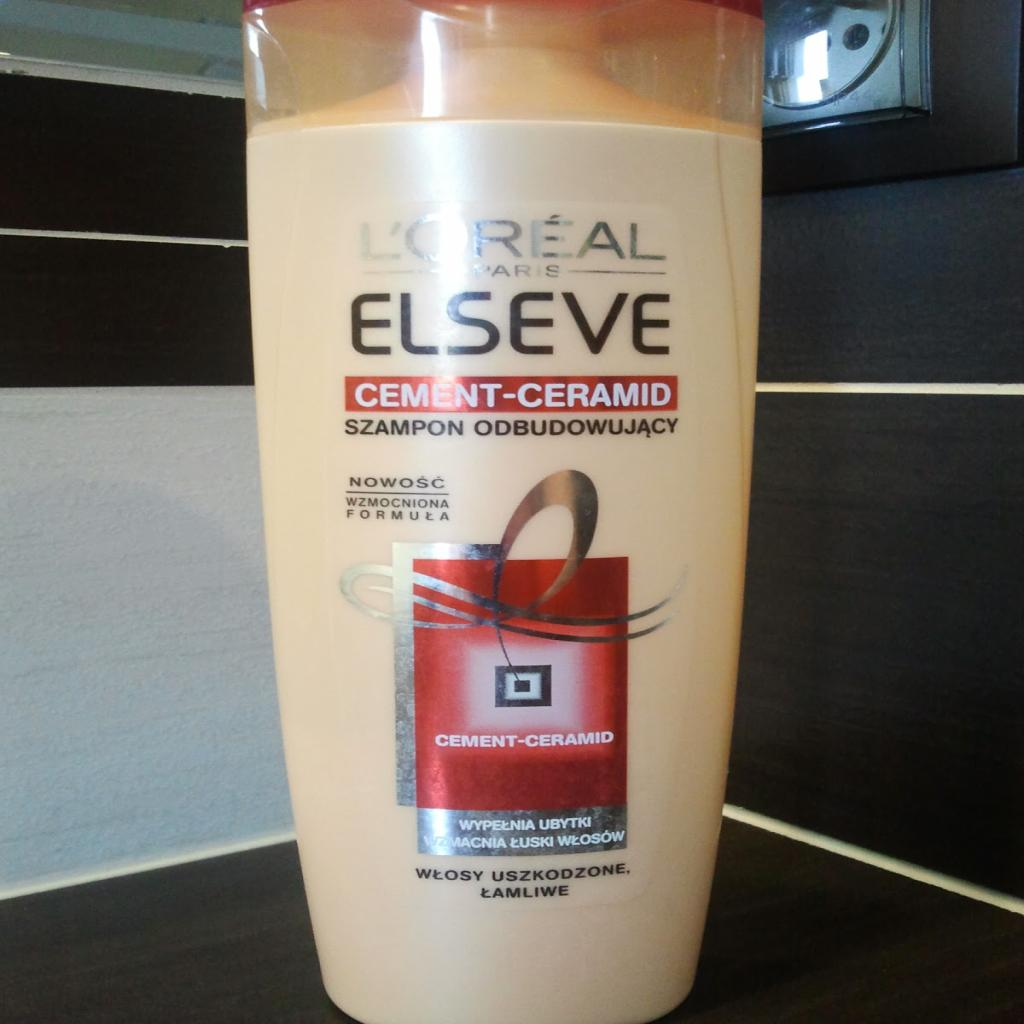organico: (201, 5, 780, 1024)
